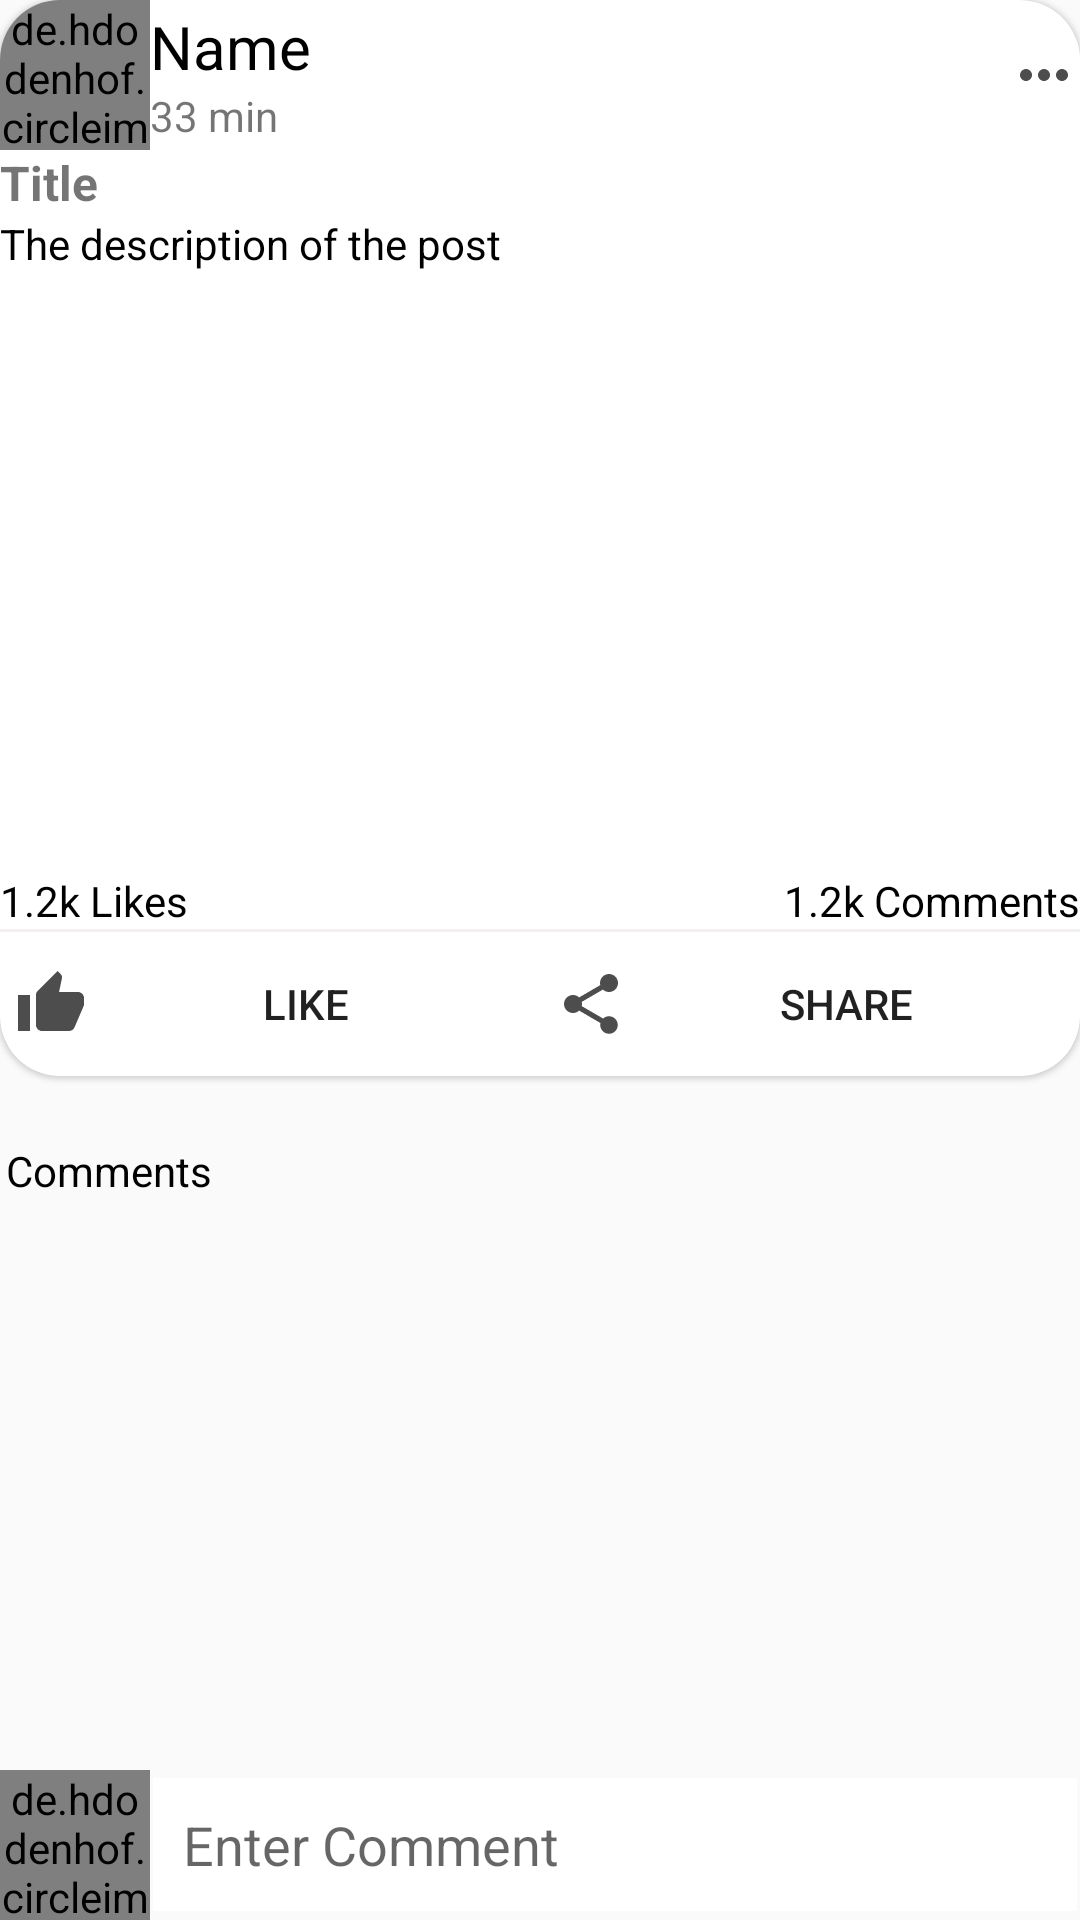

Where to tap for icons on this 1080px×1920px app screen, as [x,y]:
more: [1044,75]
